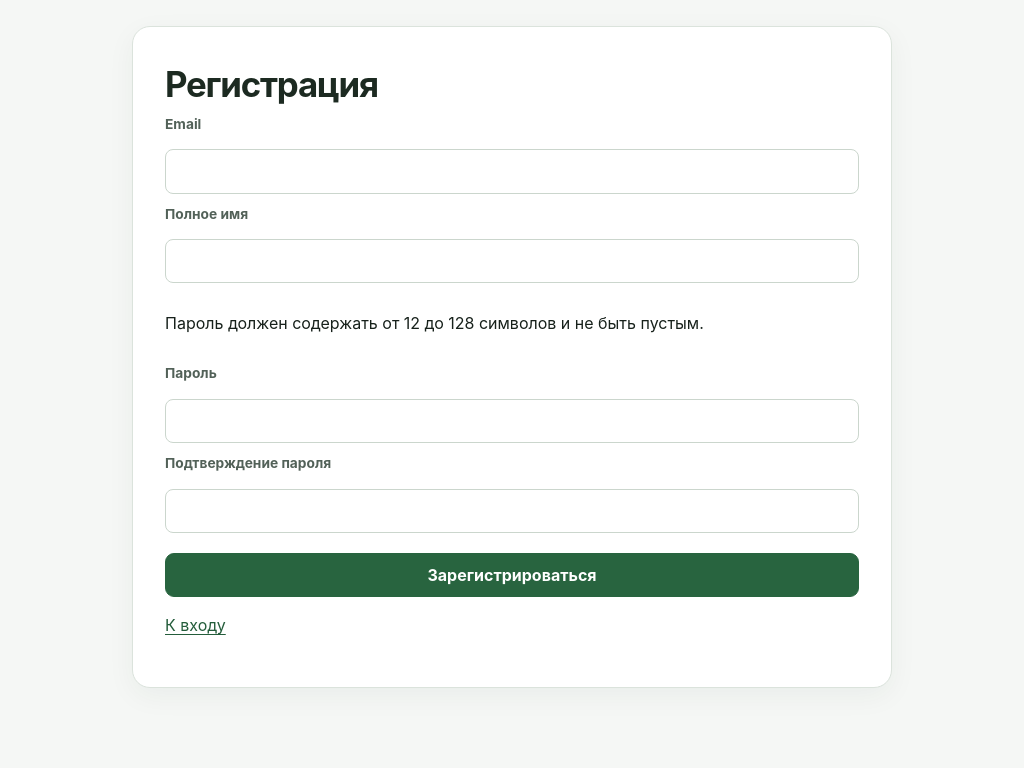
Accounts › validates registration secure-password-24
Type "New@Example.com" into the field labelled "Email" at (512, 171), box [165, 149, 859, 194]
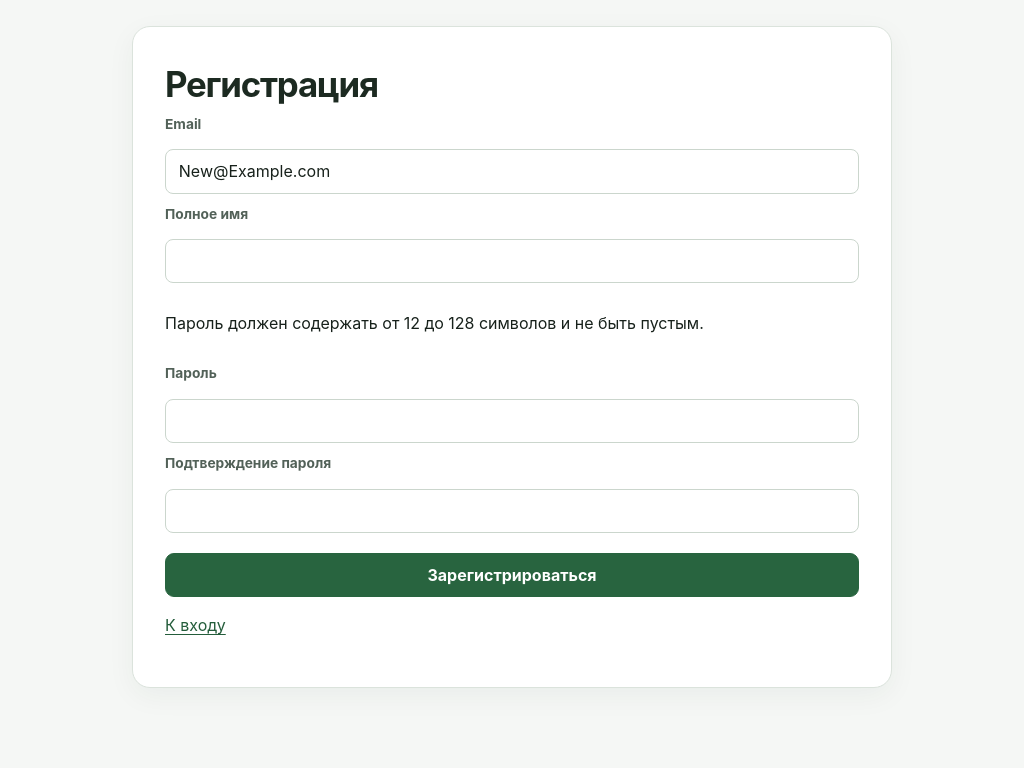
Type "New User" into the field labelled "Полное имя" at (512, 261), box [165, 239, 859, 284]
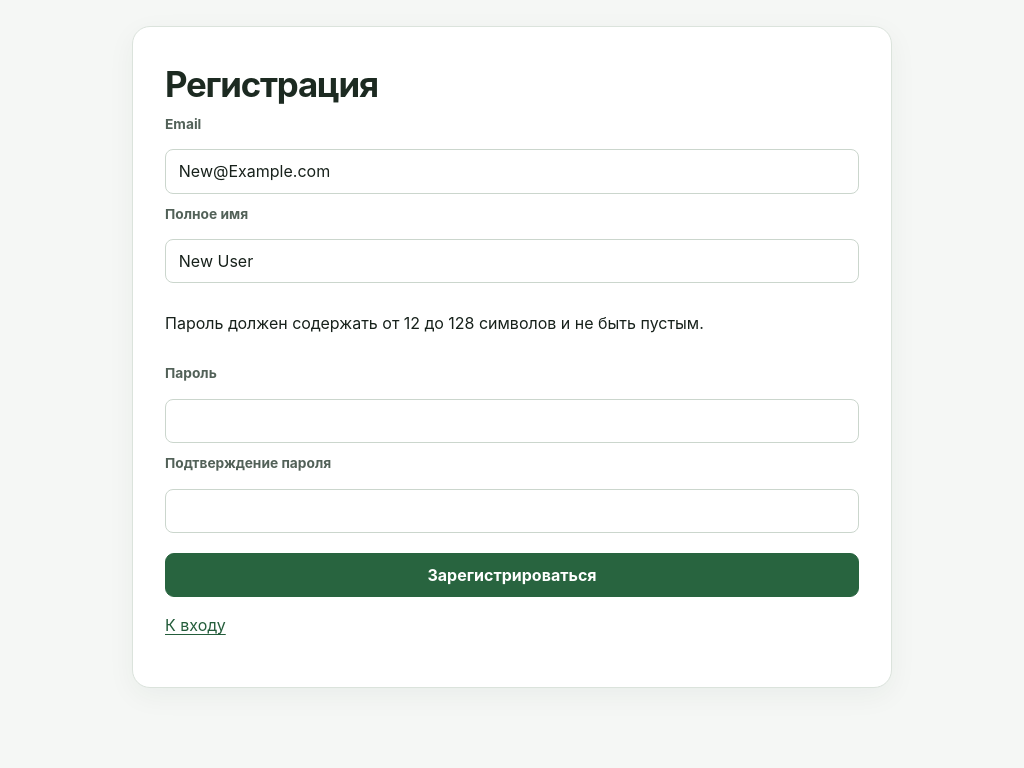
Type "secure-password-24" into the password field labelled "Пароль" at (512, 421), box [165, 399, 859, 443]
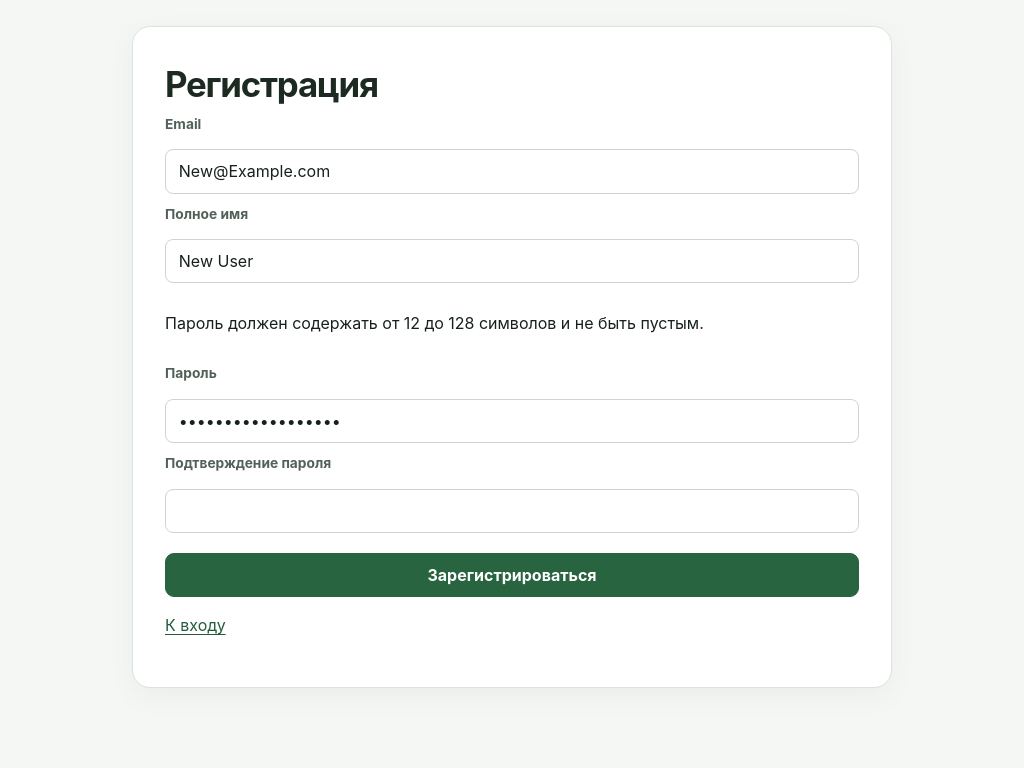
Type "different-password" into the password field labelled "Подтверждение пароля" at (512, 511), box [165, 489, 859, 533]
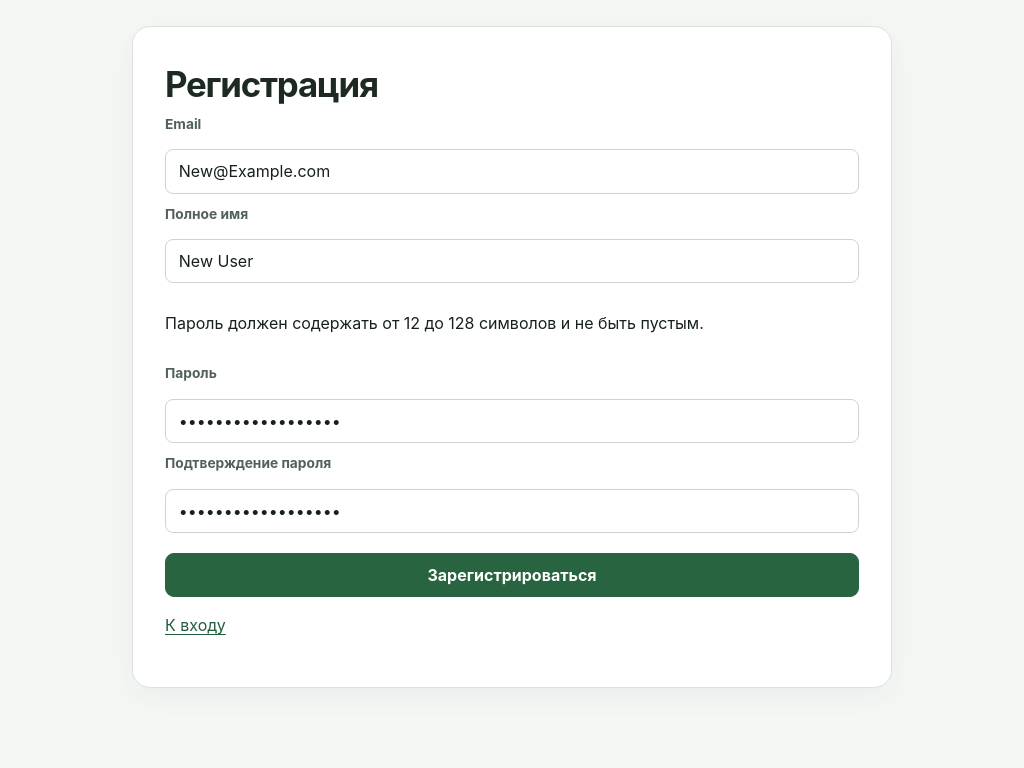
Click the button "Зарегистрироваться" at (512, 575), box [165, 553, 859, 597]
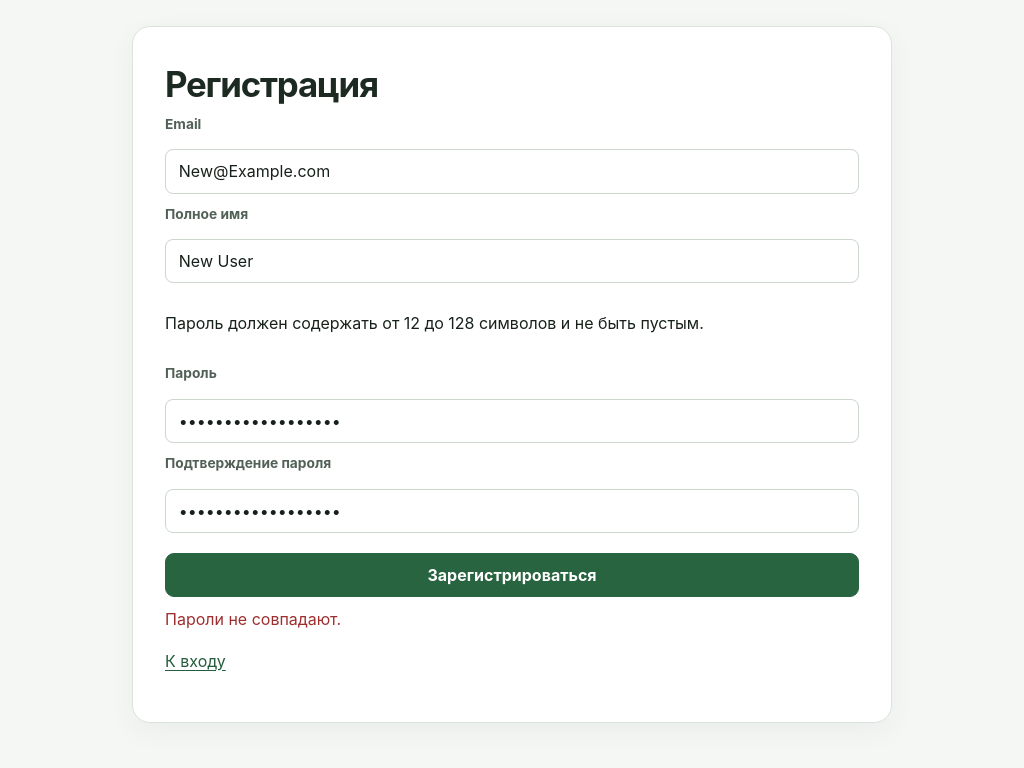
Check: the message shows "не совпадают", box [165, 609, 341, 629]
